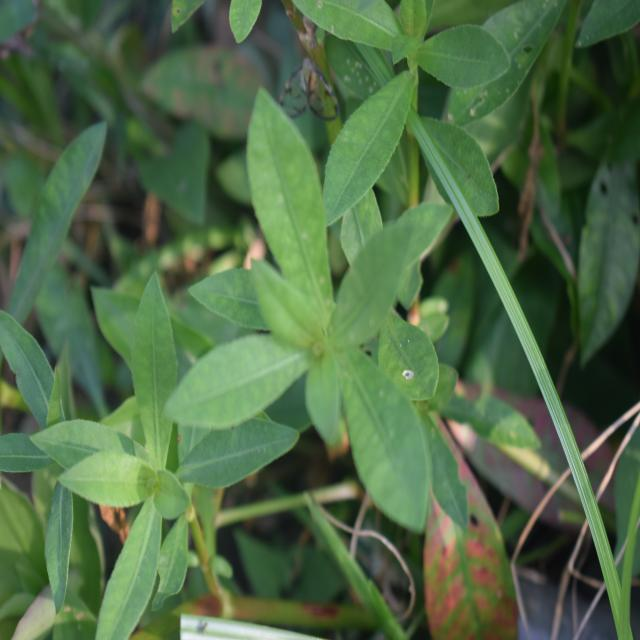Alligatorweed: (203, 96, 451, 527)
